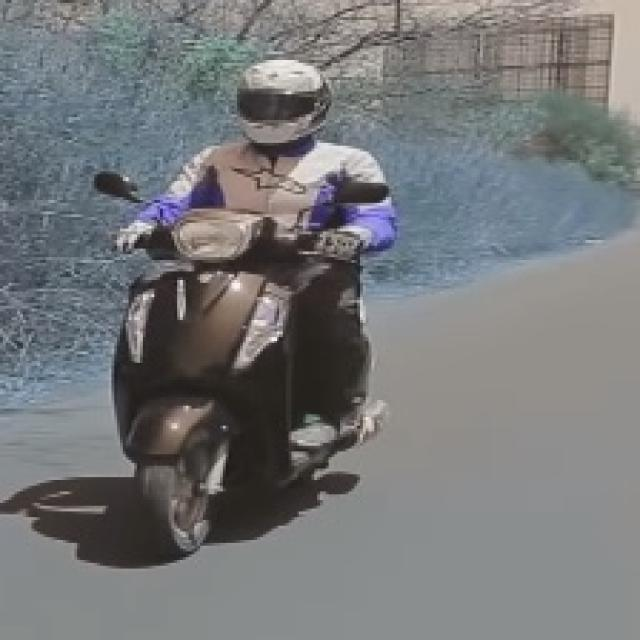motorcycle: (91, 209, 373, 568)
